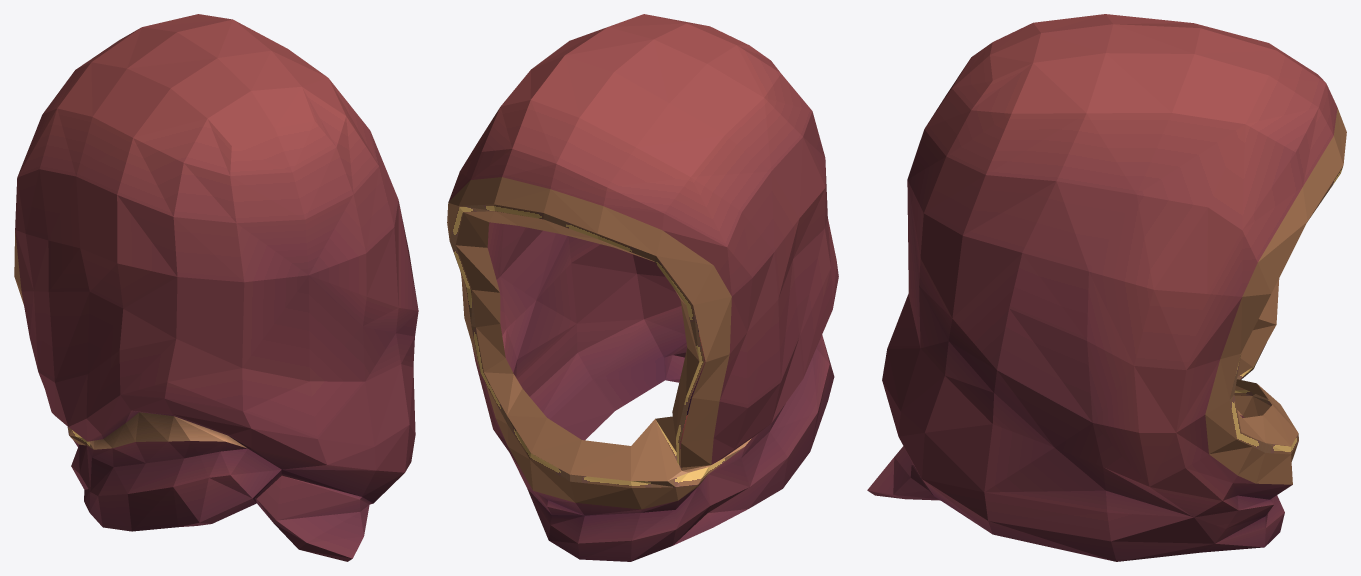
The model's file is CharSkyKid_Hair_AP14HeadWrap_01.glb.
3 views of the same model, side by side, from view 1: azimuth 30°, elevation 25°; view 2: azimuth 150°, elevation 25°; view 3: azimuth 270°, elevation 25° (orthographic). The views are drawn at different scales.
Parts seen in each view (by area): view 1: CharSkyKid_Hair_AP14HeadWrap_01; view 2: CharSkyKid_Hair_AP14HeadWrap_01; view 3: CharSkyKid_Hair_AP14HeadWrap_01.
Part boxes in pixels (<box>): CharSkyKid_Hair_AP14HeadWrap_01: <box>14,14,418,561</box>; CharSkyKid_Hair_AP14HeadWrap_01: <box>447,14,838,561</box>; CharSkyKid_Hair_AP14HeadWrap_01: <box>867,14,1346,561</box>.
Bounding box in the file's own units: 2.57 × 3.68 × 3.14.
Materials: 1 (1 with a texture image).
